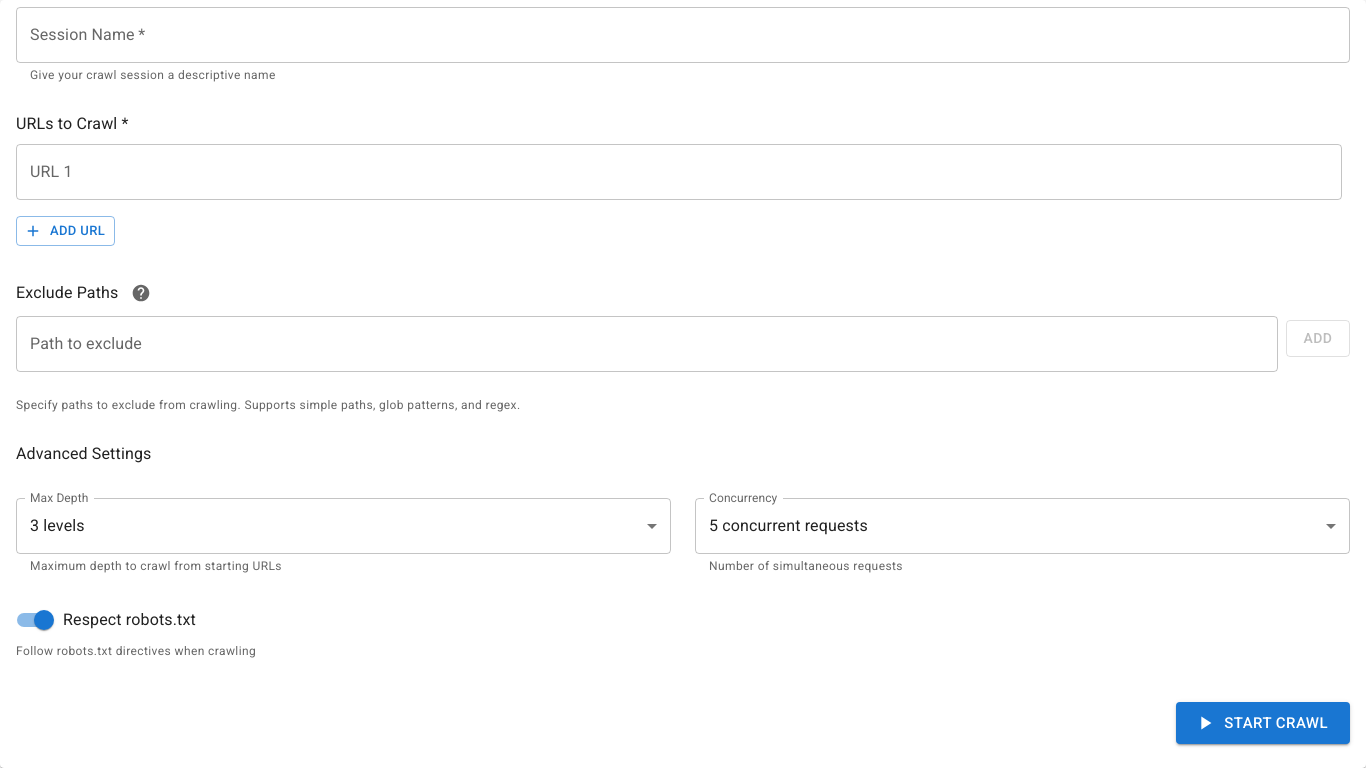
Scenario: CrawlForm › validates required fields
(page scrolled)
Click the button "Start Crawl" at (1263, 723), box 1176,702 -> 1350,744
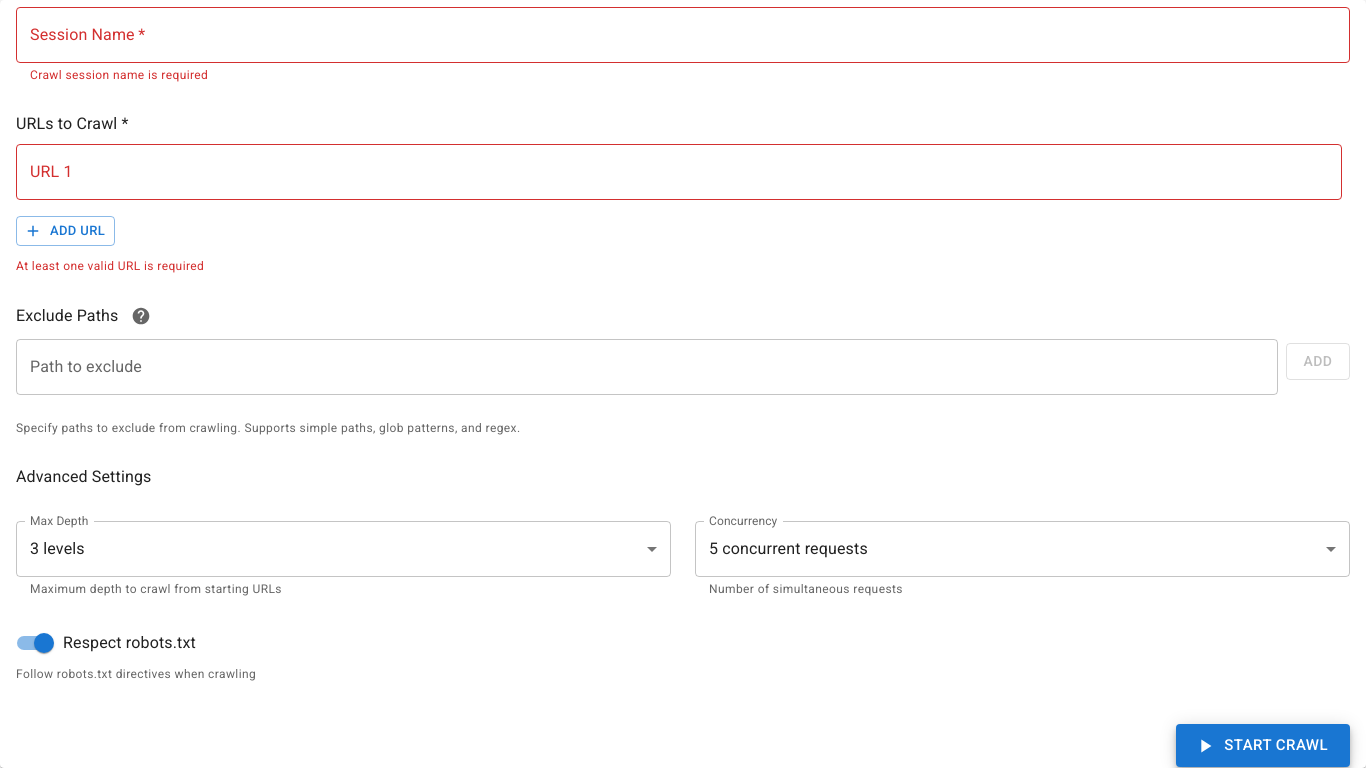
Check: the text "Crawl session name is required" is shown, box 30,68 -> 208,82
Check: the text "At least one valid URL is required" is shown, box 16,259 -> 204,273
